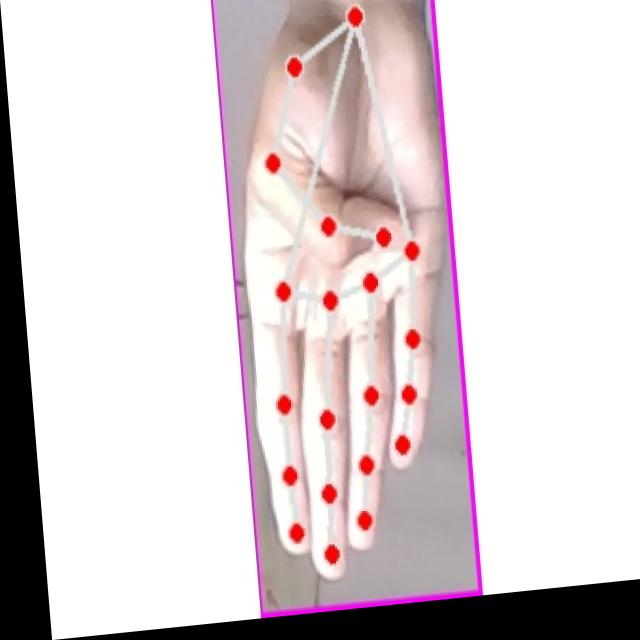B: (219, 0, 461, 600)
